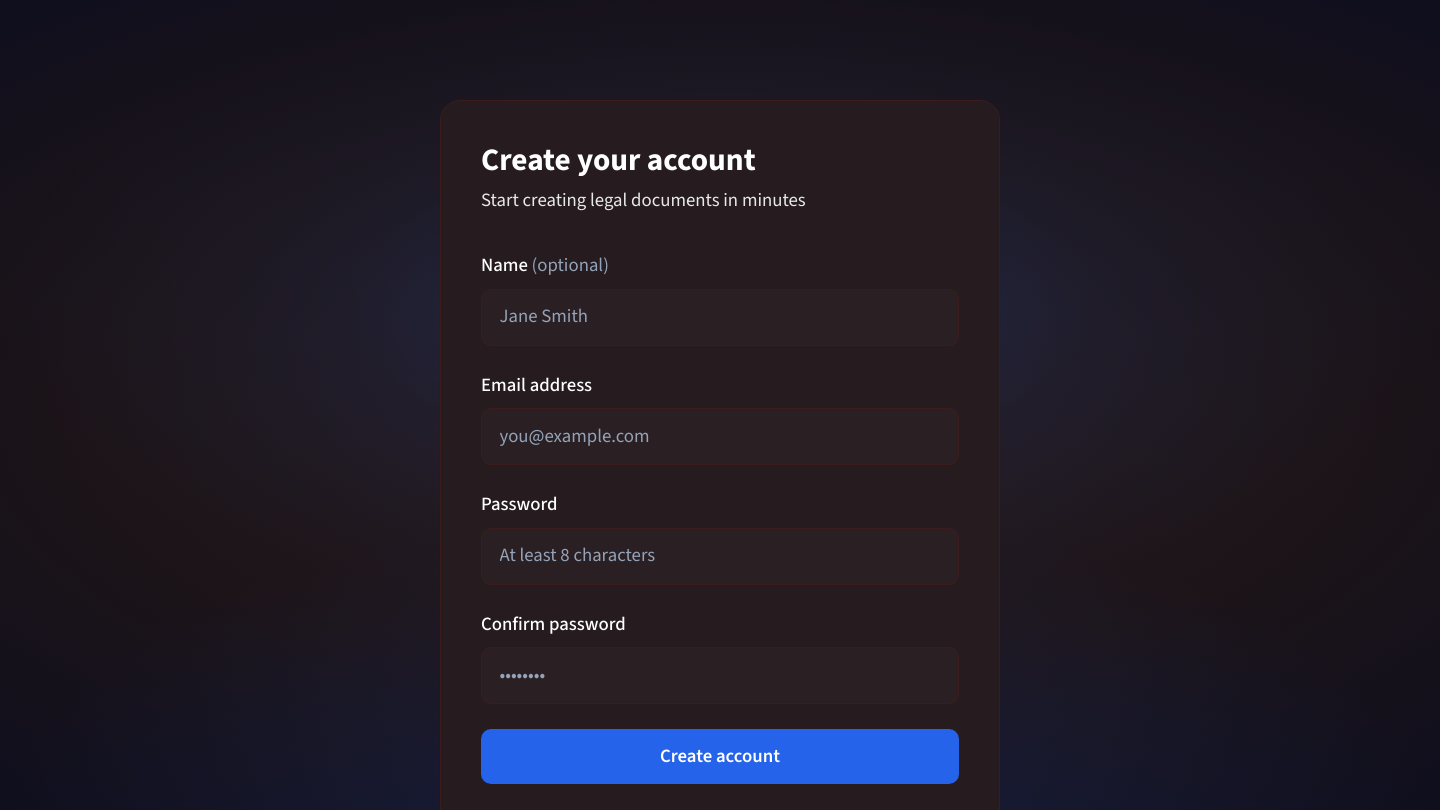
Scenario: Register page › shows error when password is too short
Type "test@example.com" into the field labelled "Email address" at {"x": 720, "y": 436}, box left=481, top=408, right=959, bottom=465
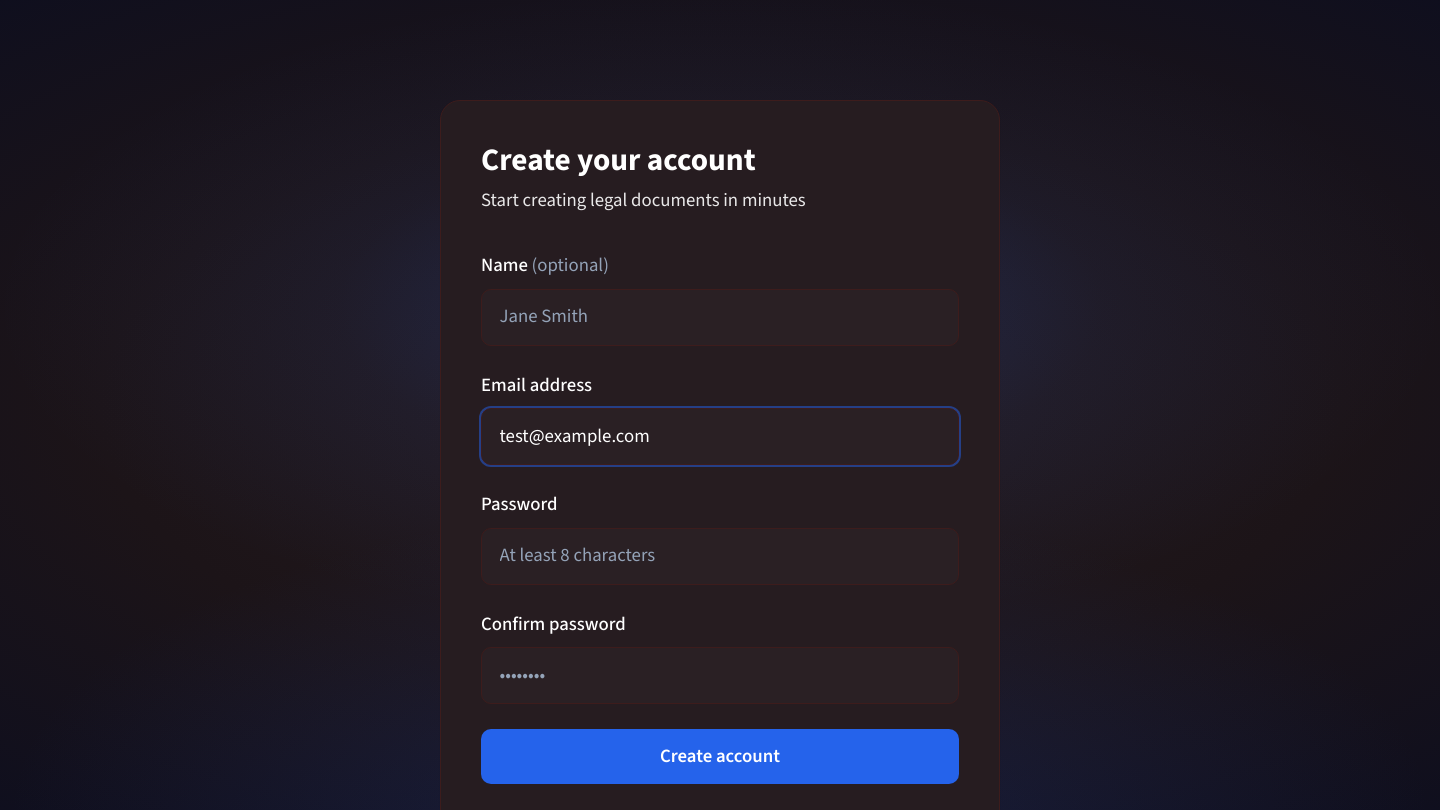
Type "short" into the password field labelled "Password" at {"x": 720, "y": 556}, box left=481, top=528, right=959, bottom=584
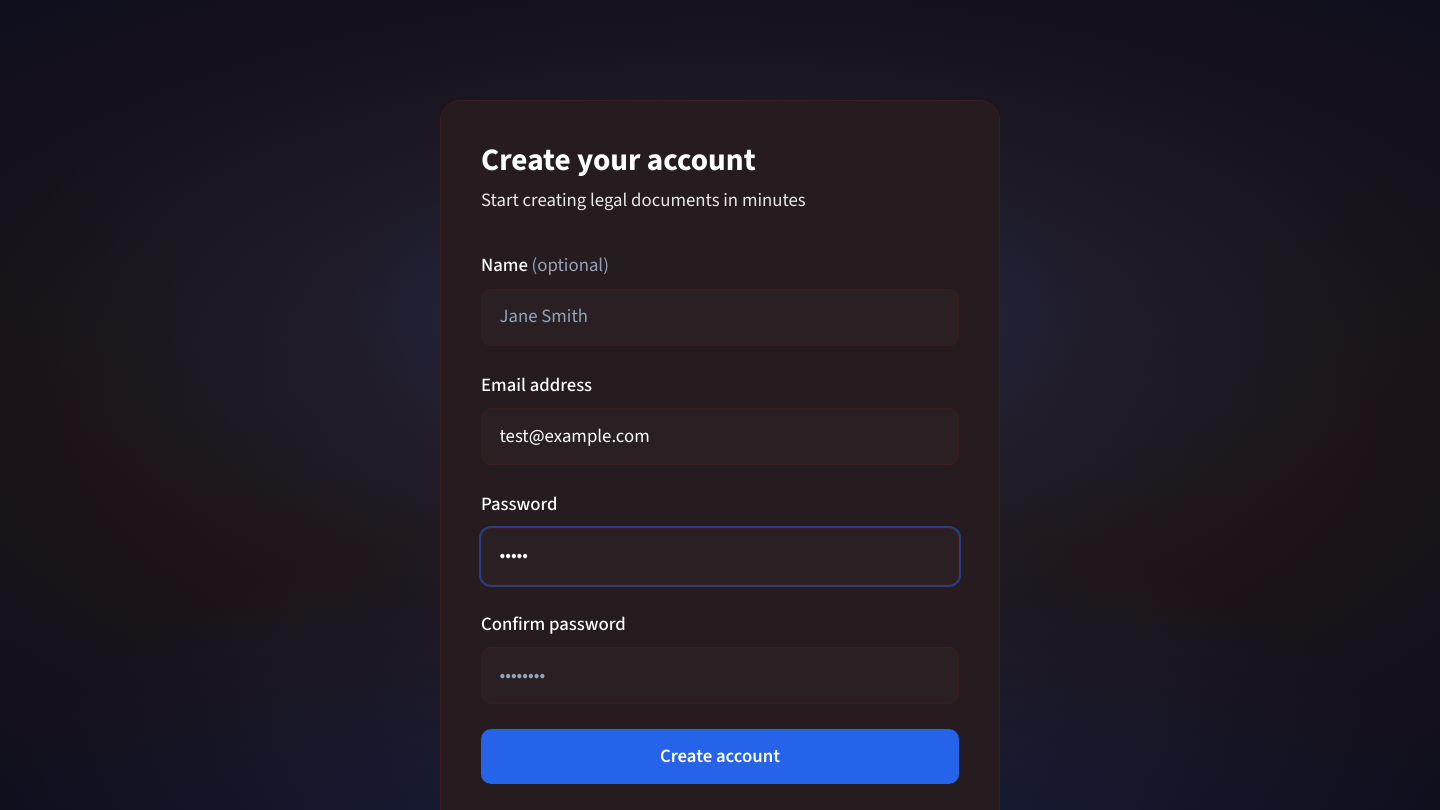
Type "short" into the password field labelled "Confirm password" at {"x": 720, "y": 676}, box left=481, top=647, right=959, bottom=704
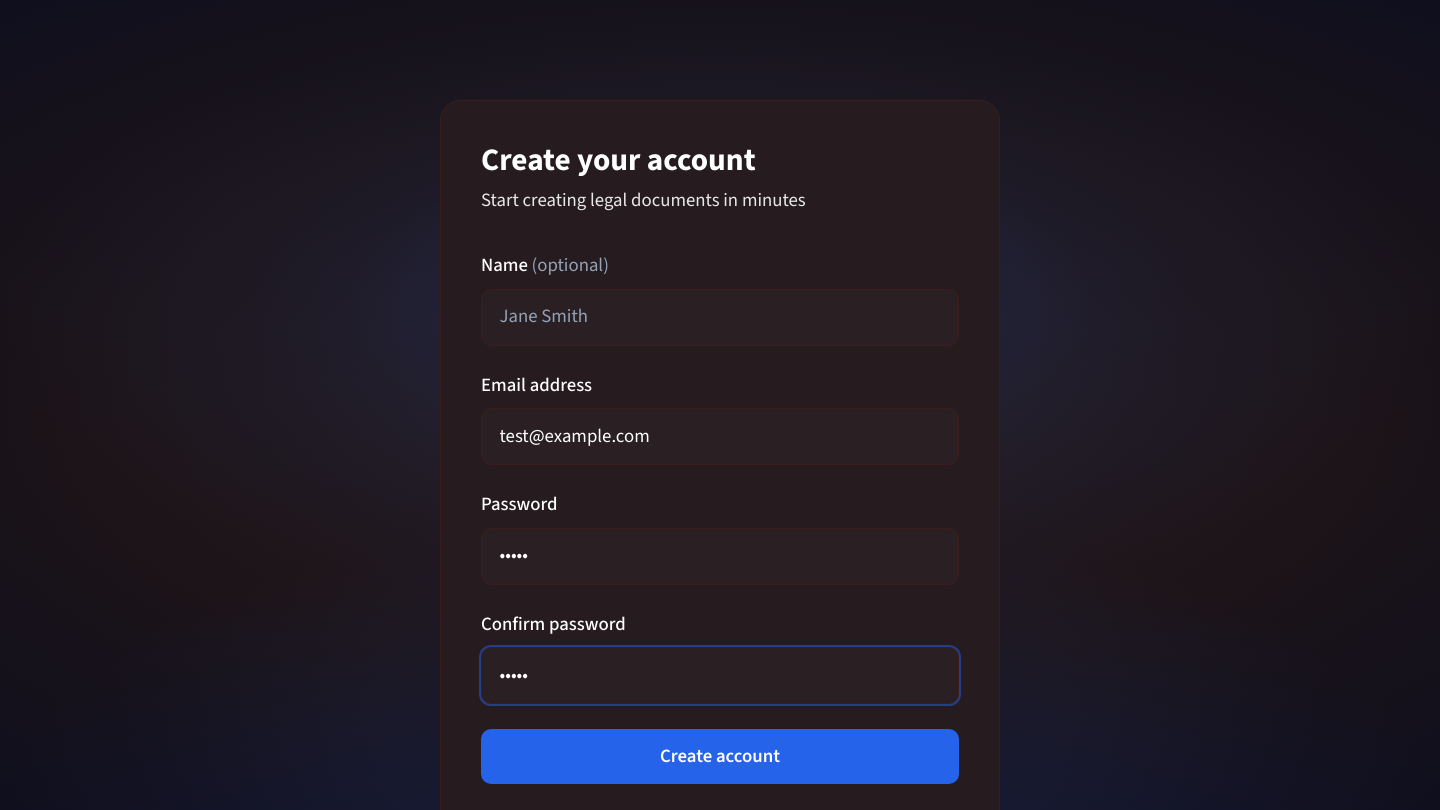
Click the button "Create account" at {"x": 720, "y": 756}, box left=481, top=729, right=959, bottom=784
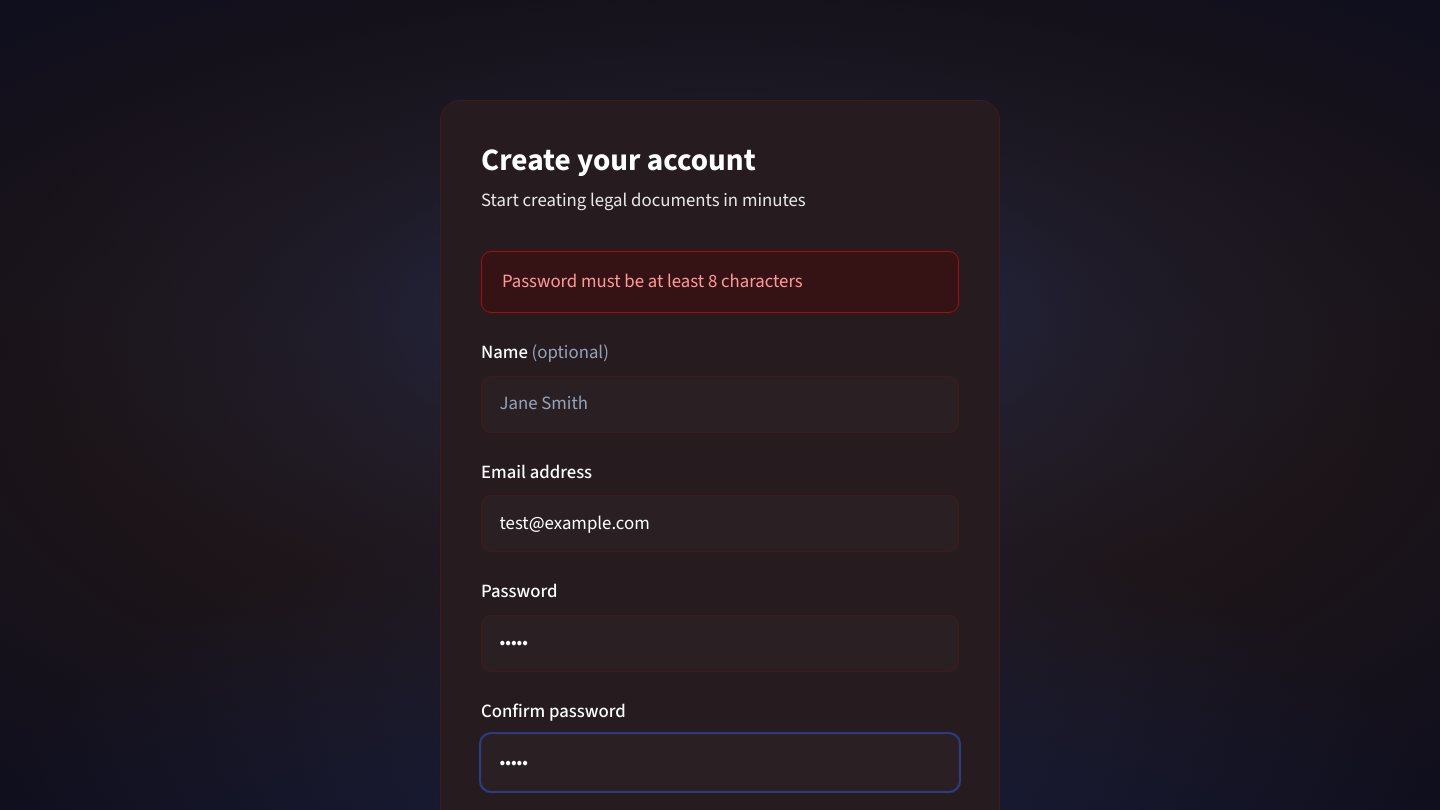
Expected: the text "Password must be at least 8 characters" is shown, left=481, top=251, right=959, bottom=313
